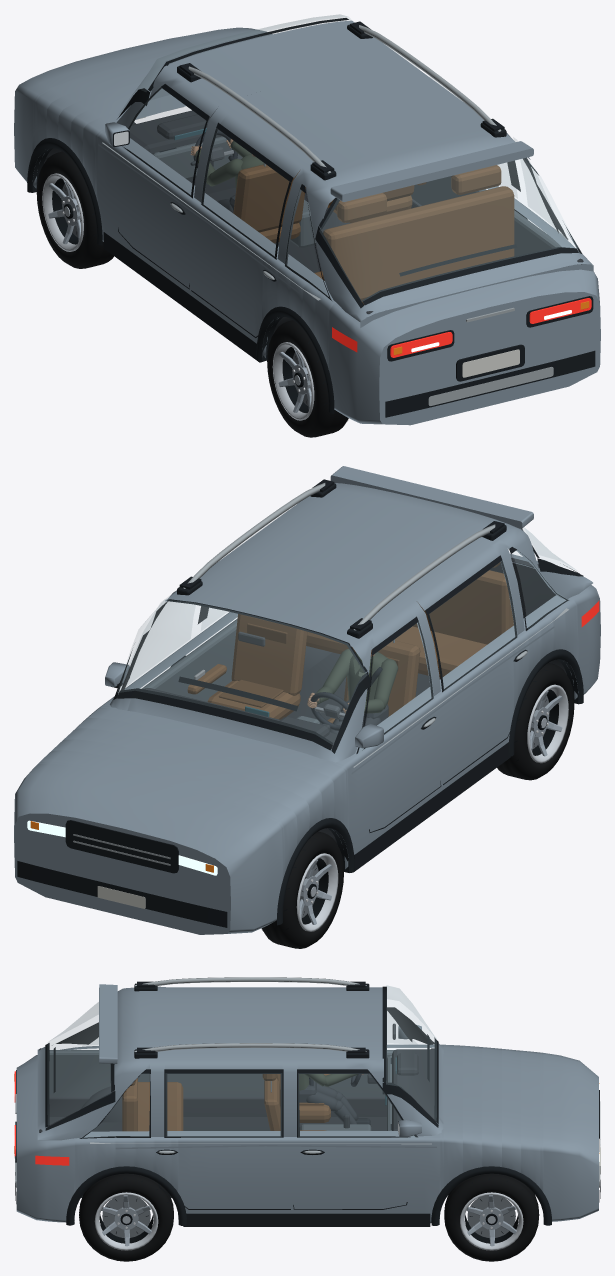
The model's file is suv.glb.
The picture shows the model from 3 angles, top to bottom: view 1: azimuth 30°, elevation 25°; view 2: azimuth 150°, elevation 25°; view 3: azimuth 270°, elevation 25°; orthographic projection. The views are drawn at different scales.
Parts seen in each view (by area): view 1: body, glass, cabin_interior, trim, alloy, wheel_rl_rubber, wheel_fl_rubber, wheel_fl_wheel_metal, wheel_rl_wheel_metal, lights_red, plate, wheel_fl_wheel_recess (+1 smaller); view 2: body, glass, cabin_interior, trim, wheel_fl_rubber, wheel_rl_rubber, alloy, wheel_fl_wheel_metal, wheel_rl_wheel_metal, steering_wheel_cabin_interior, lights_white, driver_shoulder_l_cabin_interior (+1 smaller); view 3: body, glass, cabin_interior, trim, wheel_fr_rubber, wheel_rr_rubber, alloy, wheel_rr_wheel_metal, wheel_fr_wheel_metal, wheel_rr_wheel_recess, lights_red, wheel_fr_wheel_recess.
Boxes of the visible parts, x1,y1,x2,y2 form: body: (14, 20, 600, 425); glass: (119, 14, 577, 301); cabin_interior: (44, 108, 583, 333); trim: (27, 18, 595, 417); alloy: (102, 25, 568, 405); wheel_rl_rubber: (267, 320, 348, 437); wheel_fl_rubber: (36, 151, 113, 268); wheel_fl_wheel_metal: (42, 173, 83, 251); wheel_rl_wheel_metal: (272, 342, 314, 420); lights_red: (332, 298, 591, 357); plate: (135, 117, 519, 377); wheel_fl_wheel_recess: (52, 153, 97, 268); body: (14, 466, 600, 934); glass: (117, 511, 576, 754); cabin_interior: (117, 557, 583, 845); trim: (17, 479, 583, 927); wheel_fl_rubber: (261, 831, 343, 948); wheel_rl_rubber: (497, 663, 574, 780); alloy: (73, 483, 568, 865); wheel_fl_wheel_metal: (296, 853, 338, 931); wheel_rl_wheel_metal: (527, 684, 568, 763); steering_wheel_cabin_interior: (310, 692, 348, 730); lights_white: (27, 820, 217, 875); driver_shoulder_l_cabin_interior: (374, 659, 398, 709); body: (16, 984, 598, 1223); glass: (48, 985, 436, 1137); cabin_interior: (39, 1007, 435, 1197); trim: (15, 981, 600, 1226); wheel_fr_rubber: (444, 1173, 539, 1261); wheel_rr_rubber: (79, 1173, 173, 1261); alloy: (15, 977, 600, 1187); wheel_rr_wheel_metal: (94, 1192, 158, 1250); wheel_fr_wheel_metal: (460, 1192, 523, 1250); wheel_rr_wheel_recess: (80, 1178, 173, 1247); lights_red: (14, 1071, 69, 1165); wheel_fr_wheel_recess: (445, 1178, 537, 1243).
Bounding box in the file's own units: 2.04 × 1.86 × 4.82.
